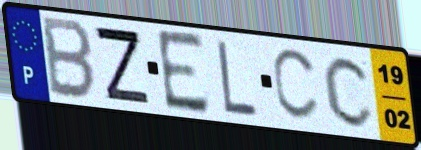B: (41, 13, 98, 103)
C: (321, 53, 376, 130), (270, 47, 321, 124)
E: (154, 27, 213, 117)
L: (214, 37, 260, 120)
Z: (91, 23, 153, 107)
